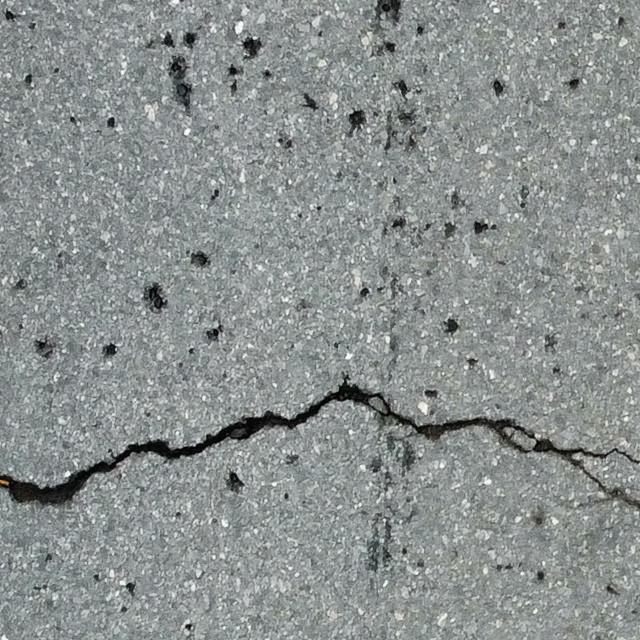TransverseCrack: (1, 375, 640, 505)
